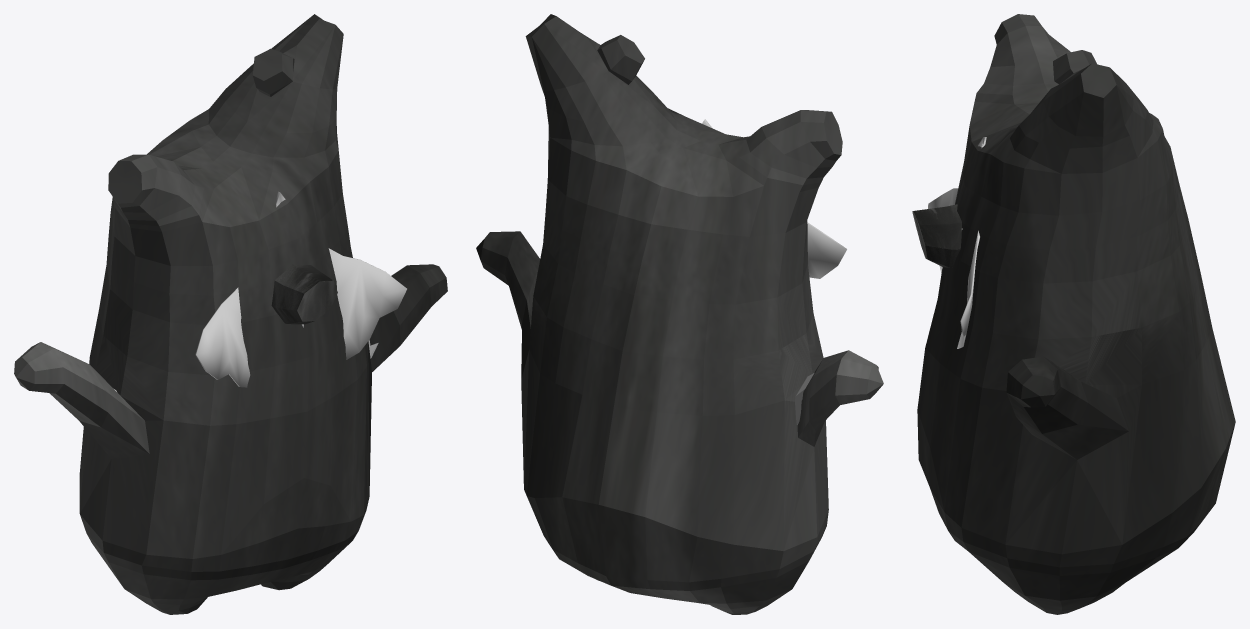
The model's file is frame_0055.obj.
3 views of the same model, side by side, from view 1: azimuth 30°, elevation 25°; view 2: azimuth 150°, elevation 25°; view 3: azimuth 270°, elevation 25° (orthographic). The views are drawn at different scales.
Visible parts, largest first — view 1: korok, leaf, nose; view 2: korok, leaf; view 3: korok, nose, leaf.
Boxes of the visible parts, x1,y1,x2,y2 form: korok: [14, 14, 447, 614]; leaf: [195, 191, 406, 387]; nose: [271, 264, 337, 324]; korok: [476, 14, 883, 614]; leaf: [702, 119, 846, 278]; korok: [917, 14, 1235, 614]; nose: [912, 204, 961, 267]; leaf: [928, 137, 986, 348].
Bounding box in the file's own units: 1.83 × 2.32 × 1.18.
